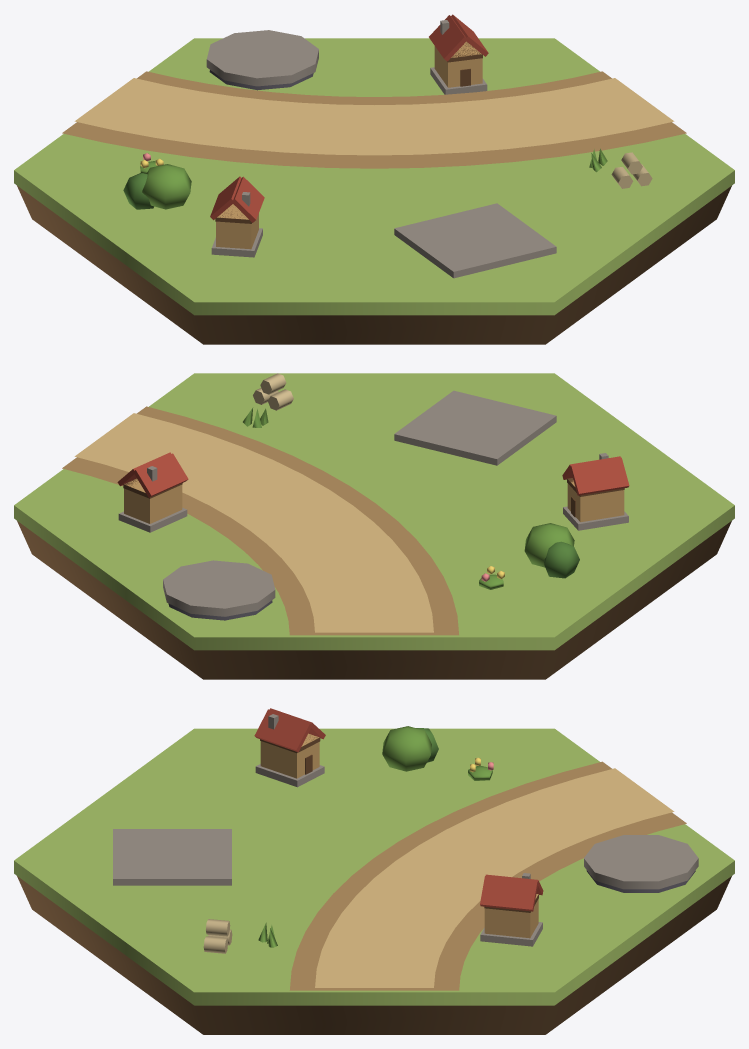
The model's file is tile_village.glb.
3 renders of one model, top to bottom at view 1: azimuth 30°, elevation 25°; view 2: azimuth 150°, elevation 25°; view 3: azimuth 270°, elevation 25°, orthographic.
Visible parts, largest first — view 1: ground, road, ground_soil, building_pad, tower_slot_1_plate, deco_bush_1_a, deco_cottage_1_body, deco_cottage_0_body, deco_cottage_0_roof_south, deco_hay, deco_cottage_1_roof_south, deco_bush_1_b (+3 smaller); view 2: ground, road, ground_soil, building_pad, tower_slot_1_plate, deco_cottage_1_roof_north, deco_cottage_0_body, deco_cottage_1_body, deco_cottage_0_roof_south, deco_bush_1_a, deco_bush_1_b, deco_hay (+2 smaller); view 3: ground, road, ground_soil, building_pad, tower_slot_1_plate, deco_bush_1_a, deco_cottage_0_roof_north, deco_cottage_1_body, deco_cottage_0_body, deco_cottage_1_roof_south, deco_hay, deco_cottage_1_base (+1 smaller).
Boxes of the visible parts, x1=… form: ground: x1=14, y1=38, x2=734, y2=315; road: x1=62, y1=71, x2=686, y2=168; ground_soil: x1=17, y1=186, x2=731, y2=344; building_pad: x1=394, y1=203, x2=556, y2=278; tower_slot_1_plate: x1=206, y1=30, x2=318, y2=86; deco_bush_1_a: x1=142, y1=164, x2=191, y2=209; deco_cottage_1_body: x1=216, y1=204, x2=258, y2=249; deco_cottage_0_body: x1=434, y1=41, x2=482, y2=87; deco_cottage_0_roof_south: x1=429, y1=15, x2=467, y2=61; deco_hay: x1=611, y1=152, x2=652, y2=188; deco_cottage_1_roof_south: x1=231, y1=176, x2=264, y2=222; deco_bush_1_b: x1=123, y1=173, x2=153, y2=209; ground: x1=14, y1=373, x2=734, y2=650; road: x1=62, y1=406, x2=458, y2=635; ground_soil: x1=17, y1=521, x2=731, y2=679; building_pad: x1=394, y1=390, x2=556, y2=465; tower_slot_1_plate: x1=163, y1=560, x2=275, y2=616; deco_cottage_1_roof_north: x1=570, y1=457, x2=629, y2=495; deco_cottage_0_body: x1=124, y1=479, x2=182, y2=523; deco_cottage_1_body: x1=567, y1=480, x2=624, y2=522; deco_cottage_0_roof_south: x1=133, y1=453, x2=188, y2=497; deco_bush_1_a: x1=524, y1=523, x2=574, y2=567; deco_bush_1_b: x1=544, y1=541, x2=579, y2=578; deco_hay: x1=253, y1=373, x2=293, y2=410; ground: x1=14, y1=728, x2=734, y2=1005; road: x1=289, y1=761, x2=686, y2=990; ground_soil: x1=17, y1=876, x2=731, y2=1034; building_pad: x1=113, y1=829, x2=231, y2=885; tower_slot_1_plate: x1=584, y1=835, x2=698, y2=889; deco_bush_1_a: x1=382, y1=726, x2=431, y2=771; deco_cottage_0_roof_north: x1=480, y1=876, x2=538, y2=911; deco_cottage_1_body: x1=260, y1=733, x2=319, y2=778; deco_cottage_0_body: x1=484, y1=894, x2=538, y2=938; deco_cottage_1_roof_south: x1=254, y1=709, x2=311, y2=752; deco_hay: x1=203, y1=919, x2=232, y2=953; deco_cottage_1_base: x1=255, y1=764, x2=324, y2=787.
Bounding box in the file's own units: 1.73 × 0.325 × 2.
